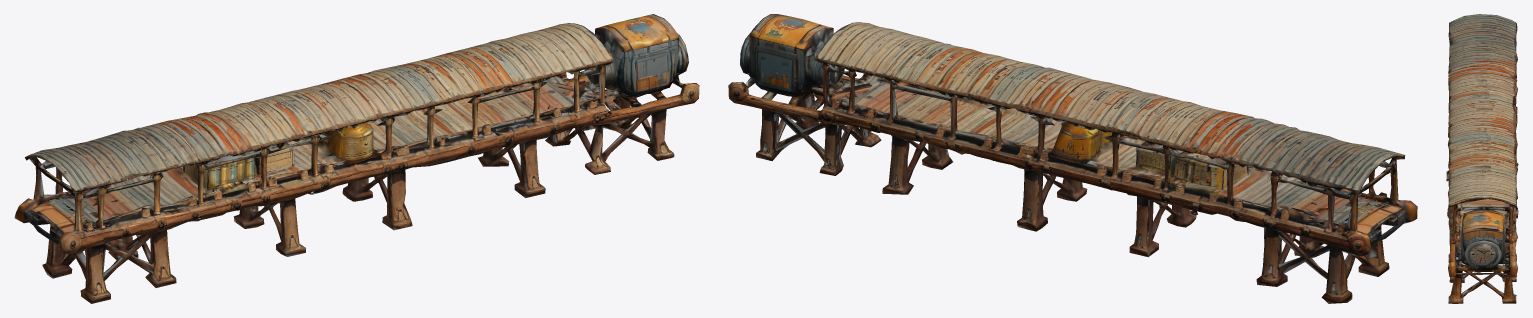
Rendered from Settle_Conveyor.fbx.
3 views of the same model, side by side, from view 1: azimuth 30°, elevation 25°; view 2: azimuth 150°, elevation 25°; view 3: azimuth 270°, elevation 25° (orthographic). The views are drawn at different scales.
Visible parts, largest first — view 1: texture_mapping; view 2: texture_mapping; view 3: texture_mapping.
Part boxes in pixels (left/top/right/bottom): texture_mapping: left=14, top=14, right=699, bottom=303; texture_mapping: left=728, top=14, right=1417, bottom=303; texture_mapping: left=1446, top=14, right=1518, bottom=303.
Size of the model in its own units: 0.996 by 0.1402 by 0.1971.
Materials: 1 (1 with a texture image).
